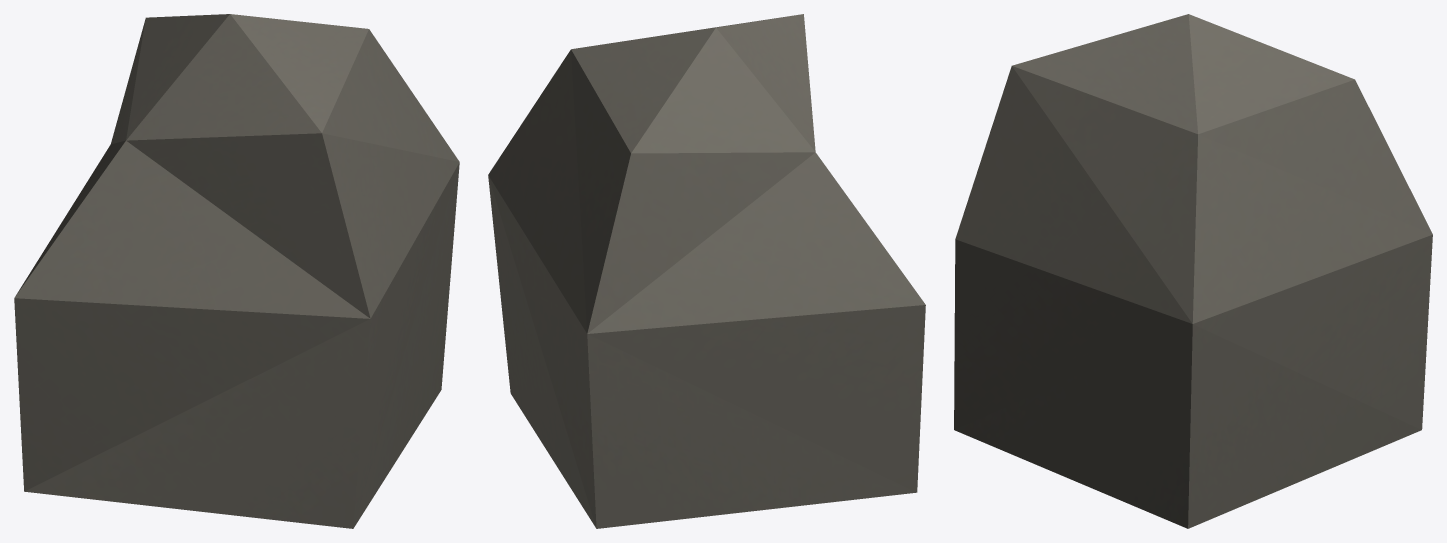
File: Rock_Single_2B.fbx
The picture shows the model from 3 angles, left to right: view 1: azimuth 30°, elevation 25°; view 2: azimuth 150°, elevation 25°; view 3: azimuth 270°, elevation 25°; orthographic projection. The views are drawn at different scales.
Visible parts, largest first — view 1: pSphere4; view 2: pSphere4; view 3: pSphere4.
Part boxes in pixels (box(x1,y1,x2,y2)): pSphere4: box(14, 14, 459, 528); pSphere4: box(488, 14, 925, 528); pSphere4: box(954, 14, 1432, 528).
Bounding box in the file's own units: 106 × 108 × 101.
Materials: 1 (1 with a texture image).
